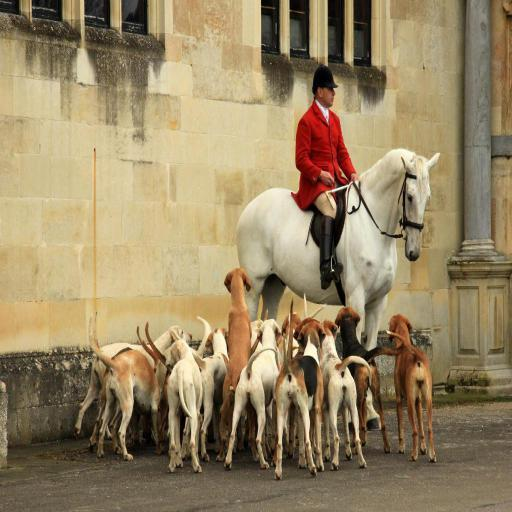horse: (236, 152, 440, 434)
